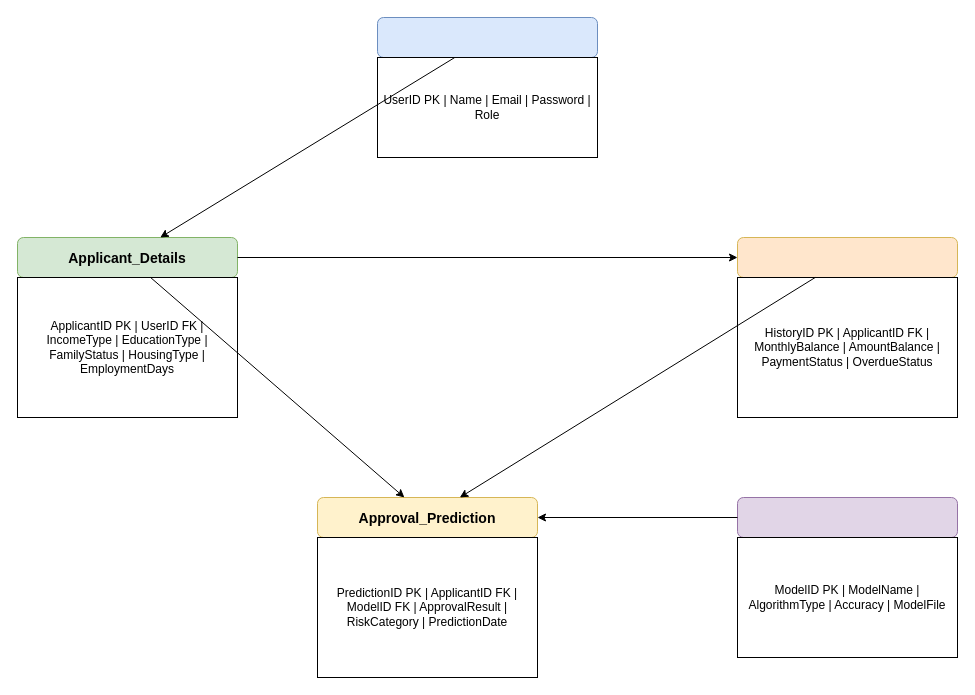
Image size: 975x695. Some labels were removed from this diagram. Each missing label, with the centre of its shape:
Credit_History: pixel 847 257
ML_Model: pixel 847 517
Users: pixel 487 37
